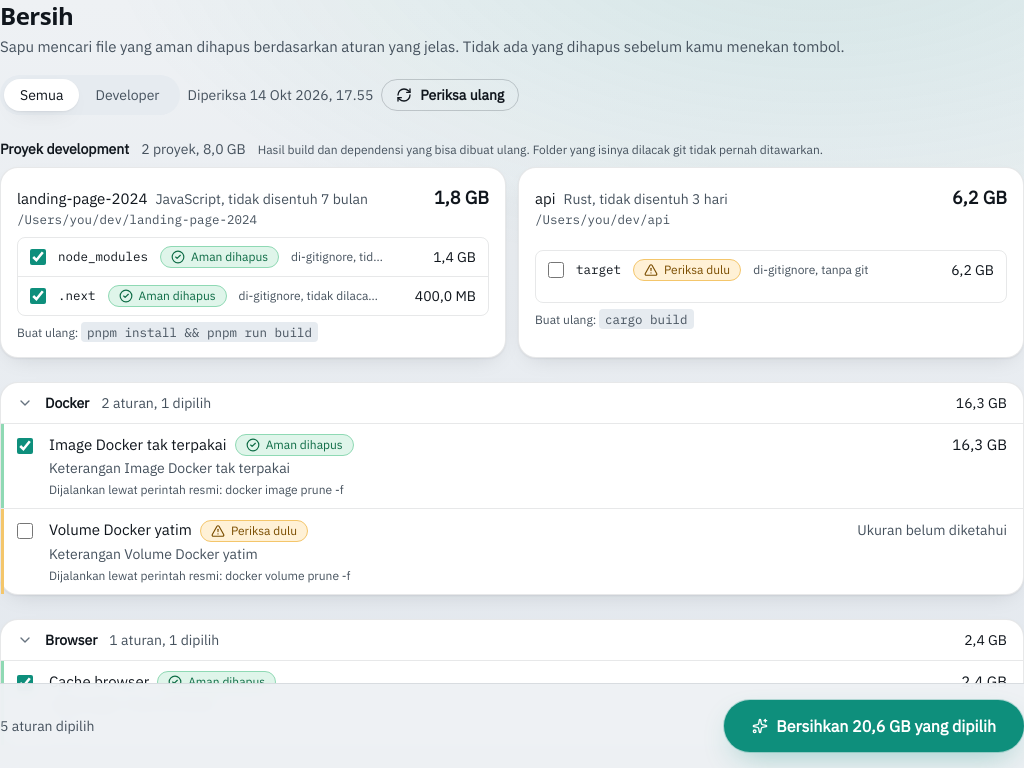
it: CleanView developer tab › filters to developer sources with a per-tool strip and keeps the selection
The image size is (1024, 768).
Check: the checkbox labelled "Cache browser" is shown, box [17,675,33,691]
Step 1. Click the tab "Developer" → [128, 94], box [80,78,176,110]
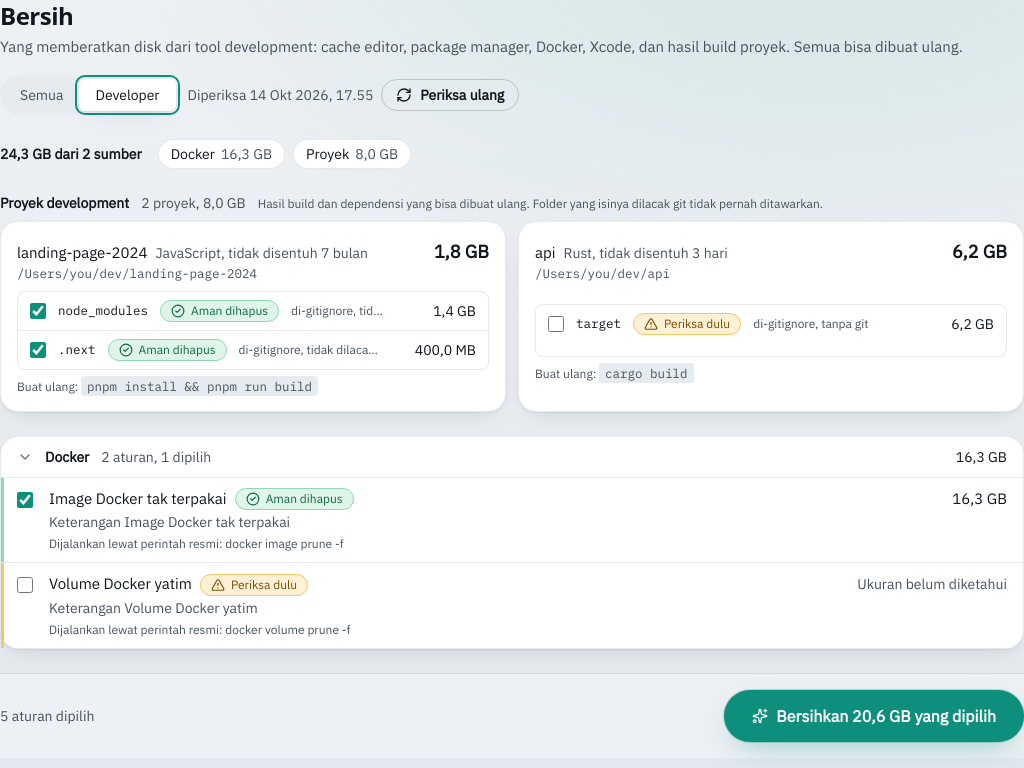
Check: the text "Cache browser" is gone
Check: the text "24,3 GB dari 2 sumber" is shown, box [0,144,142,164]
Check: the text "Proyek" is shown, box [306,144,349,164]
Step 2. Click the tab "Semua" → [42, 94], box [4,78,80,110]
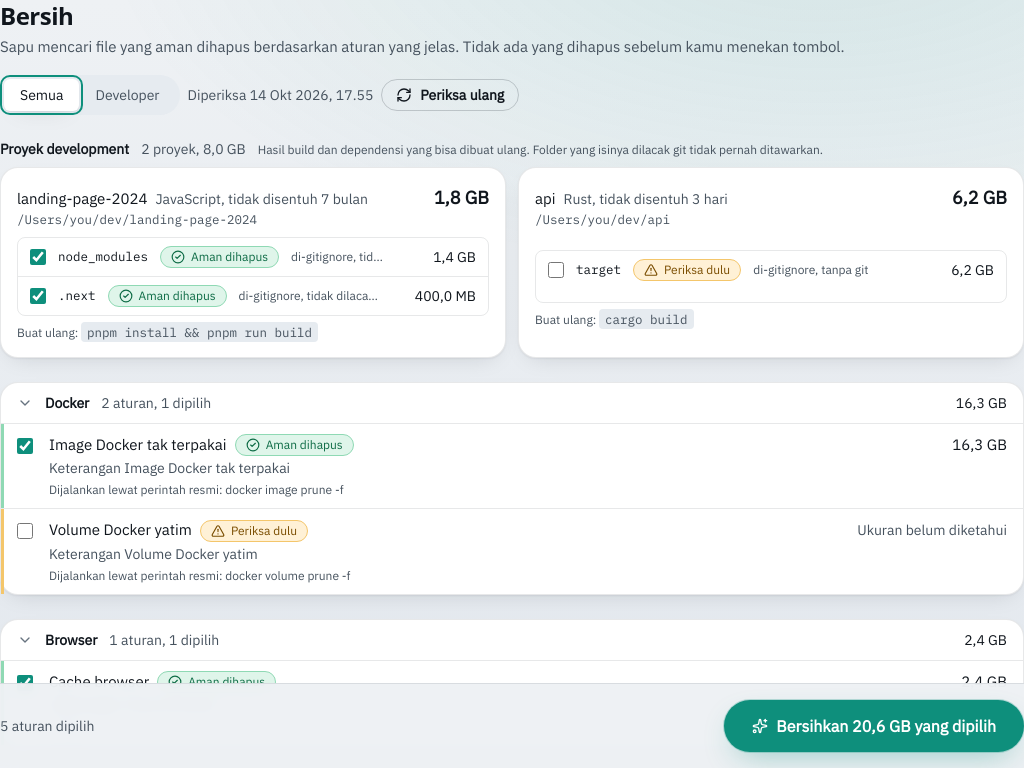
Check: the checkbox labelled "Cache browser" is shown, box [17,675,33,691]
